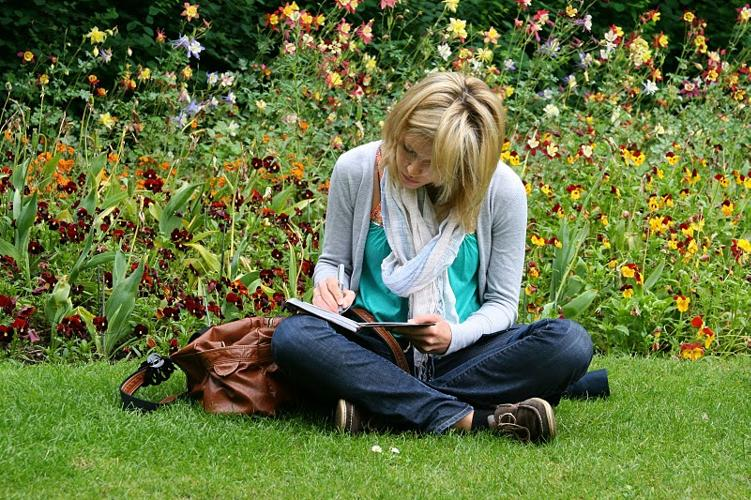person: (271, 70, 591, 446)
